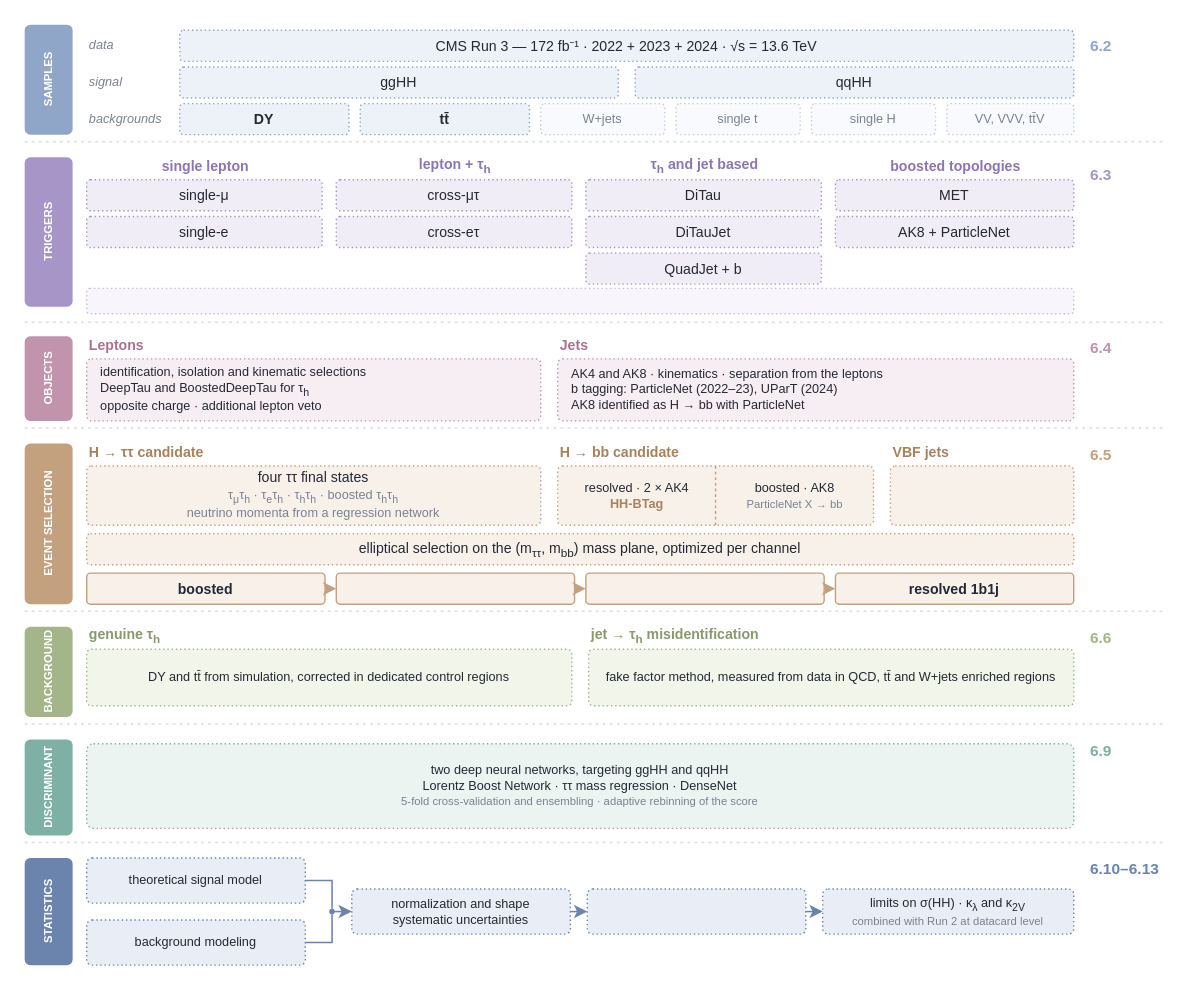
Some shapes in this 1197 by 990 pixel diagram are drawn without their labels. The centre of each missing label's shape, as x and y in pixels:
"binned maximum-likelihood fit 10 signal regions × 5 periods" goes at point (696, 911).
"resolved 2b" goes at point (704, 588).
"two highest scores VBFjTag" goes at point (981, 495).
"VBF" goes at point (455, 588).
"VBF and HH parking streams — written to tape and reconstructed later" goes at point (579, 300).
